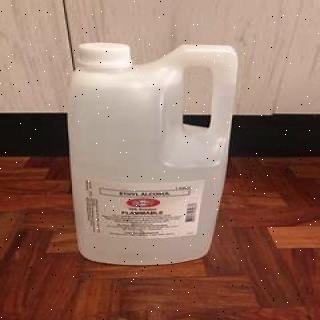Plastic-bottle: (64, 39, 244, 269)
